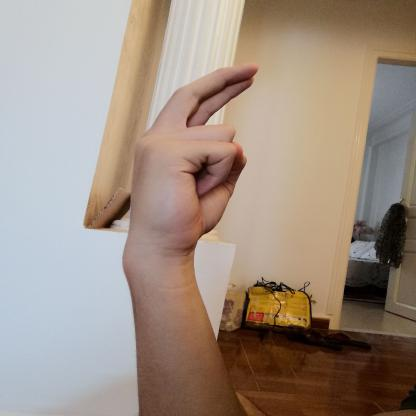ZAY: (112, 53, 272, 271)
